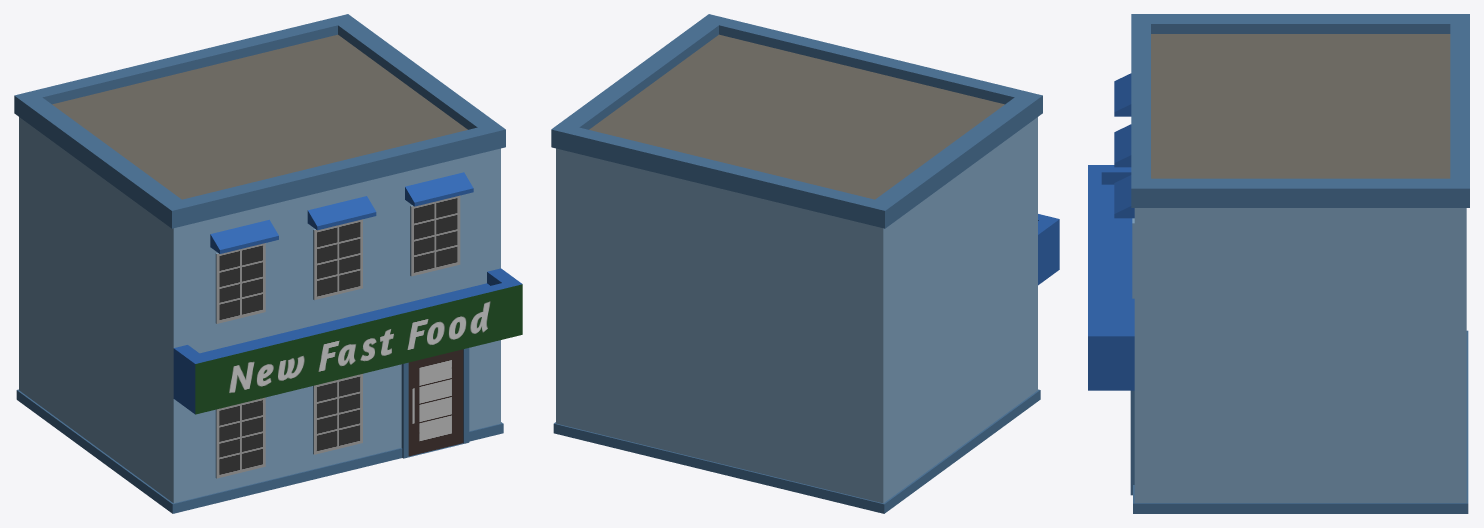
The model's file is building-fast-food.glb.
The picture shows the model from 3 angles, left to right: view 1: azimuth 30°, elevation 25°; view 2: azimuth 150°, elevation 25°; view 3: azimuth 270°, elevation 25°; orthographic projection. The views are drawn at different scales.
Parts seen in each view (by area): view 1: Building_Fast Food; view 2: Building_Fast Food; view 3: Building_Fast Food.
Part boxes in pixels (x1,y1,x2,y2): Building_Fast Food: [14, 14, 522, 513]; Building_Fast Food: [551, 14, 1059, 513]; Building_Fast Food: [1088, 14, 1469, 513].
Size of the model in its own units: 11.22 by 9.76 by 10.35.
1 material, 1 textured.
